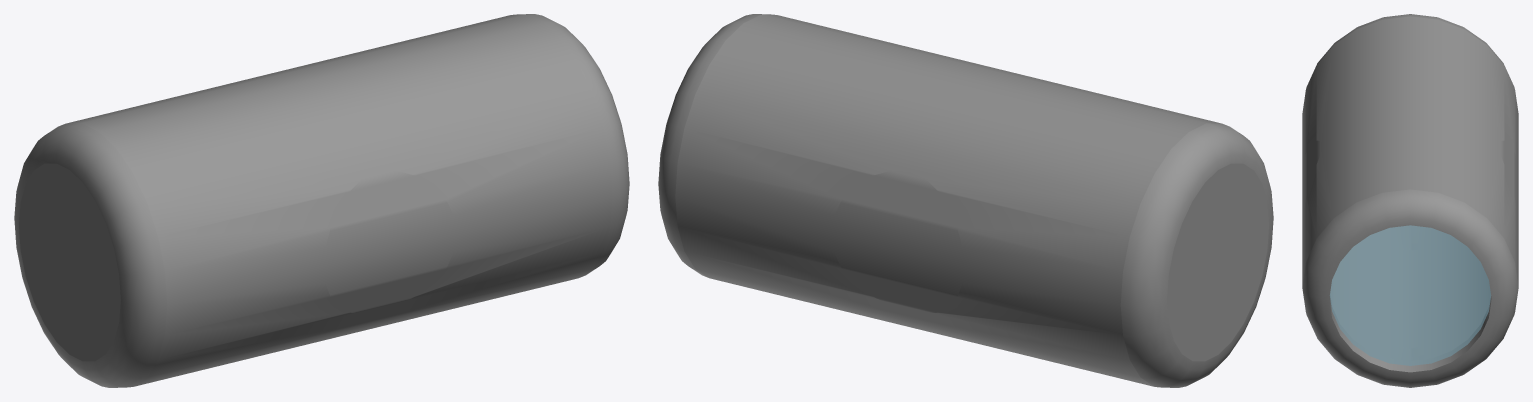
3 renders of one model, left to right at view 1: azimuth 30°, elevation 25°; view 2: azimuth 150°, elevation 25°; view 3: azimuth 270°, elevation 25°, orthographic. The views are drawn at different scales.
Visible parts, largest first — view 1: group_0; view 2: group_0; view 3: group_0, group_0_002.
Boxes of the visible parts, x1,y1,x2,y2 form: group_0: (14, 14, 629, 387); group_0: (658, 14, 1273, 387); group_0: (1302, 14, 1518, 387); group_0_002: (1330, 225, 1490, 365).
Size of the model in its own units: 0.1925 by 0.0899 by 0.0899.
